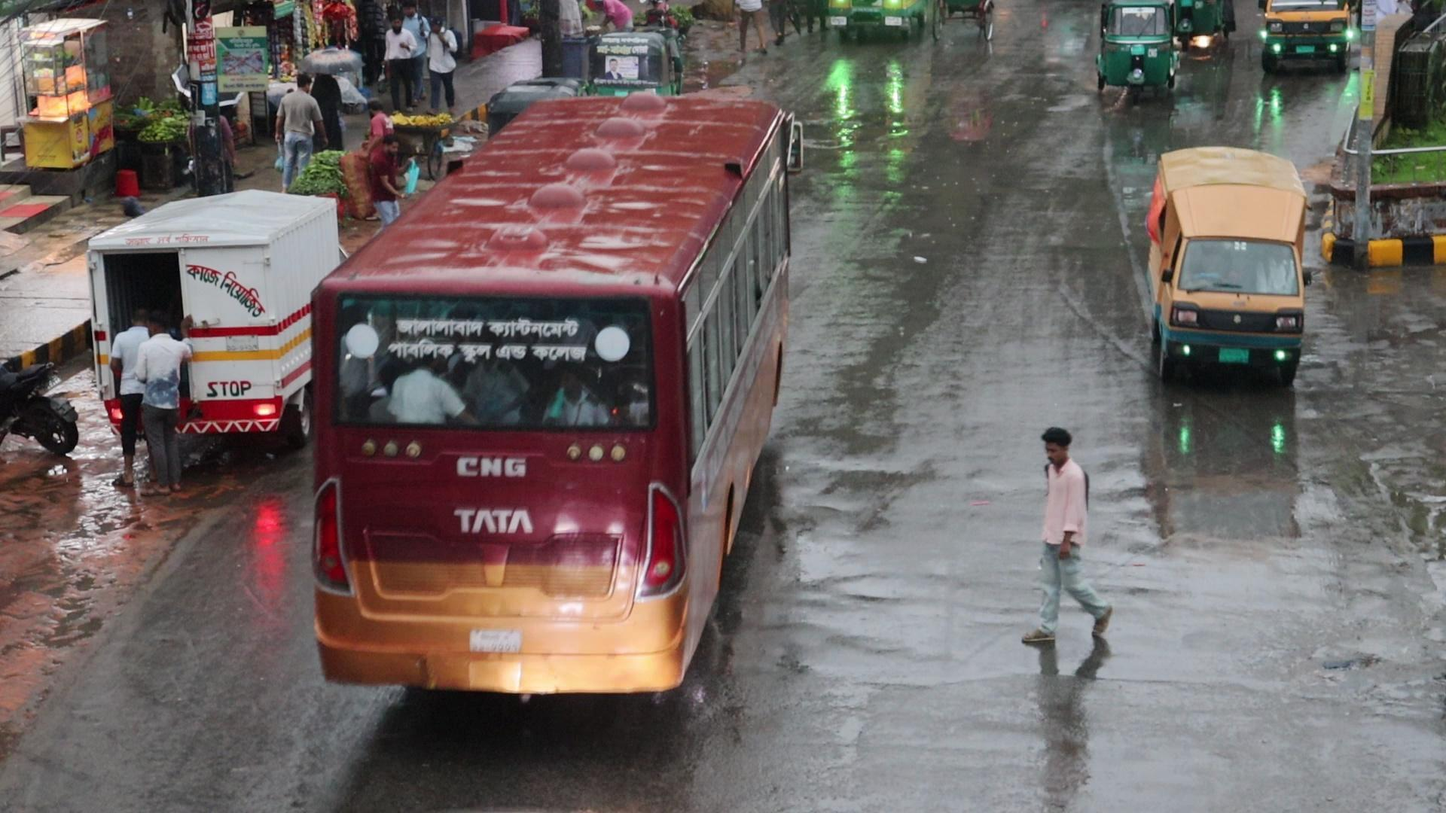Bus: (296, 88, 809, 708)
Truck: (1144, 144, 1311, 395)
